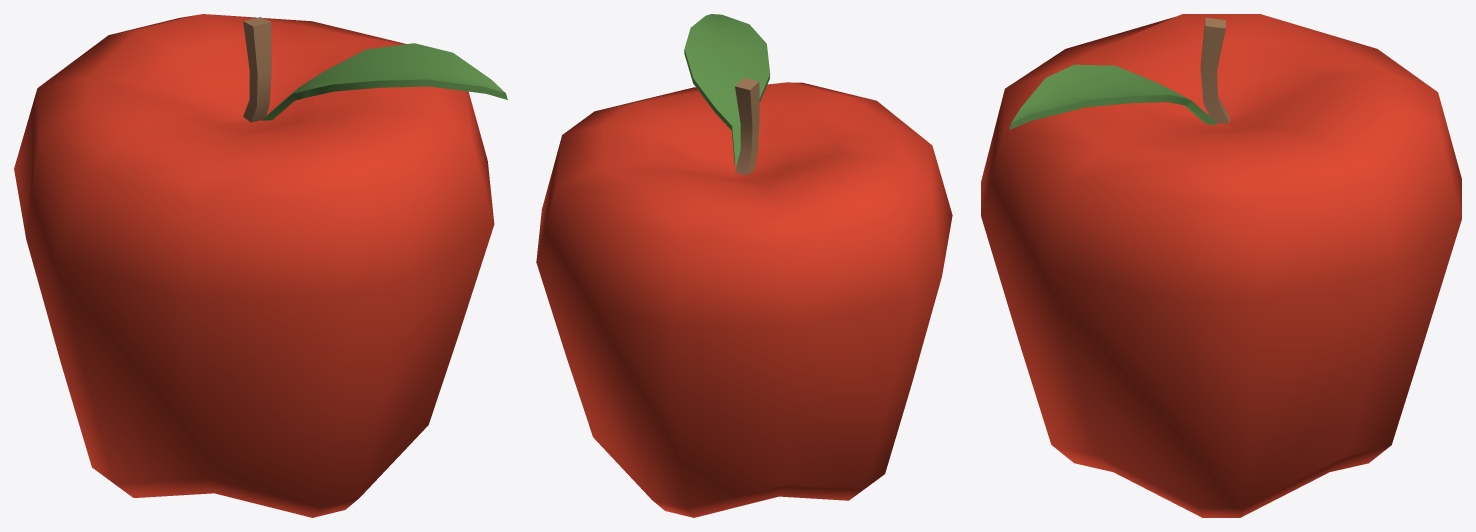
File: Apple.fbx
The picture shows the model from 3 angles, left to right: view 1: azimuth 30°, elevation 25°; view 2: azimuth 150°, elevation 25°; view 3: azimuth 270°, elevation 25°; orthographic projection. The views are drawn at different scales.
Parts seen in each view (by area): view 1: Apple; view 2: Apple; view 3: Apple.
Boxes of the visible parts, x1,y1,x2,y2 form: Apple: [14, 14, 507, 517]; Apple: [536, 14, 952, 517]; Apple: [981, 14, 1461, 517].
Bounding box in the file's own units: 0.1464 × 0.1446 × 0.1453.
